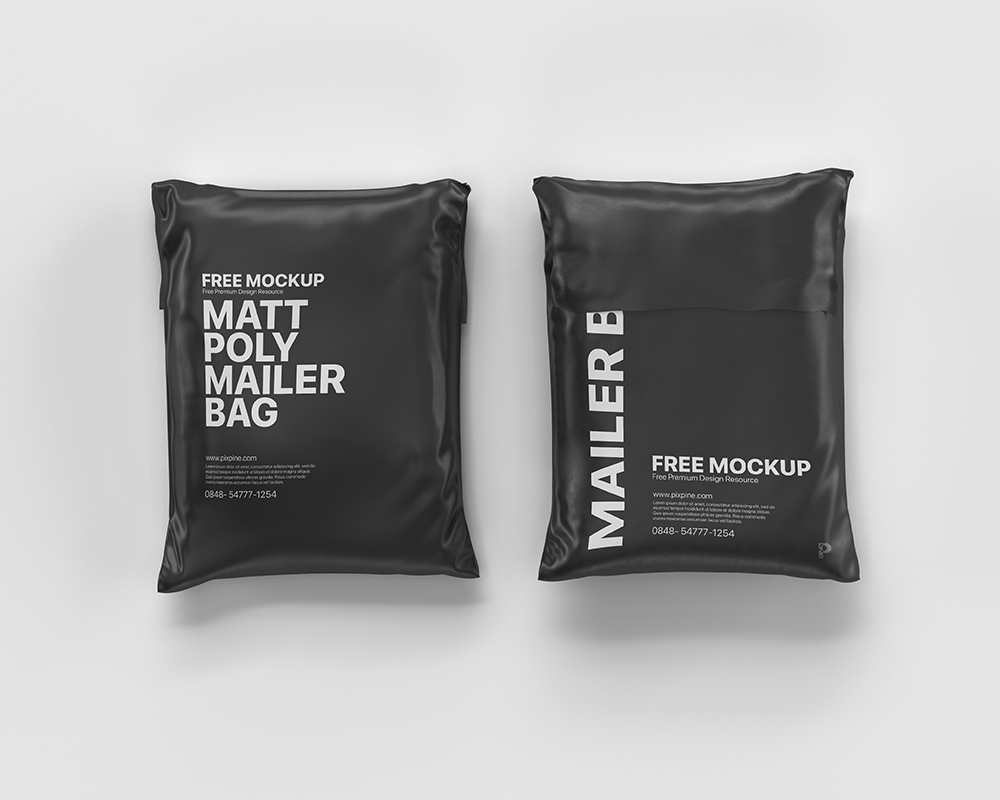塑料袋: (532, 169, 859, 581), (152, 180, 476, 592)
